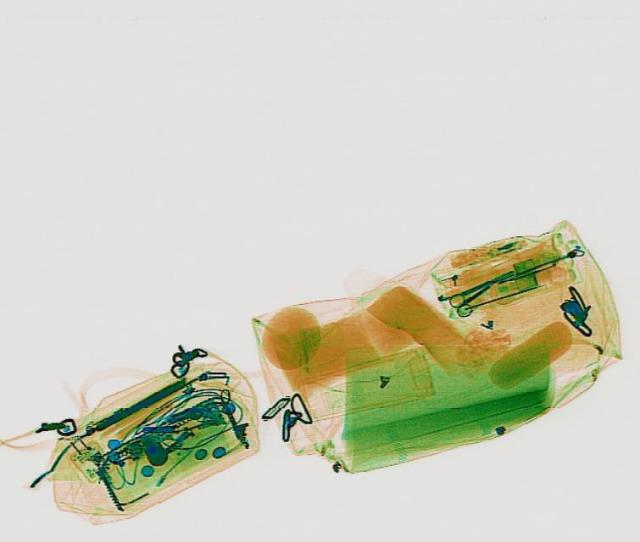Scissors: (441, 274, 499, 318)
